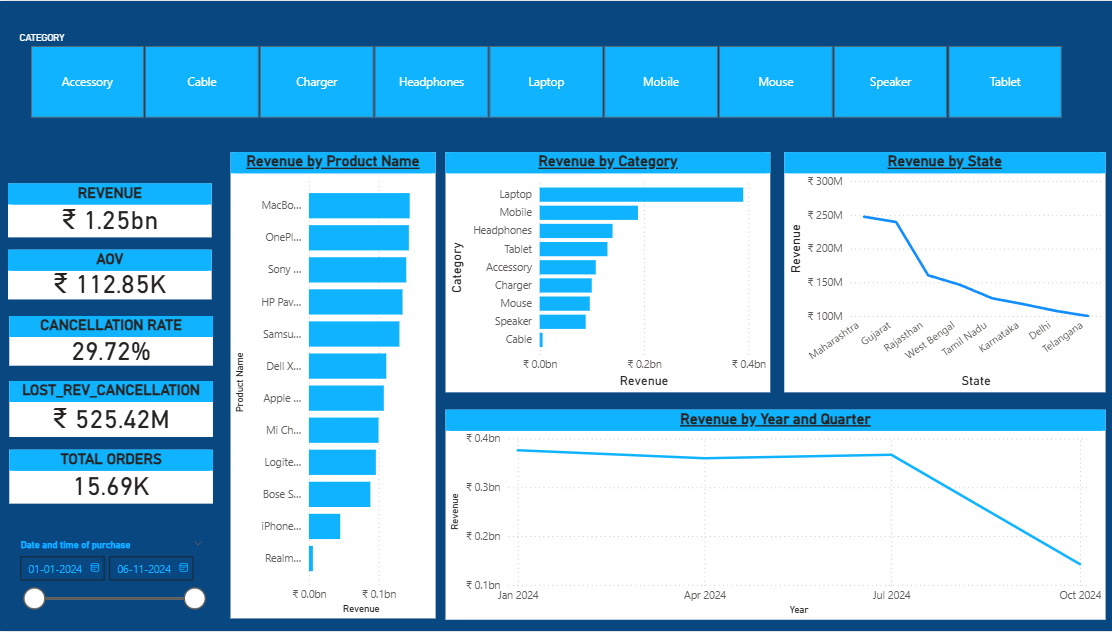

This screenshot's page, from the dashboard's own definition file:
{"tool":"powerbi","page":{"name":"Page 1","canvas":[1280,720],"ordinal":0},"visuals":[{"type":"shape","box":[0,0,1280,173.5],"z":0},{"type":"shape","box":[0,174,266,546],"z":1000},{"type":"barChart","fields":{"Y":["Table.Revenue"],"Category":["Products.Product Name"]},"box":[265.7,172.9,234.3,532.9],"z":2000},{"type":"barChart","fields":{"Y":["Table.Revenue"],"Category":["Products.Category"]},"box":[511.4,172.9,371.4,274.3],"z":3000},{"type":"lineChart","fields":{"Y":["Table.Revenue"],"Category":["Orders.Date and time of purchase.Variation.Date Hierarchy.Year","Orders.Date and time of purchase.Variation.Date Hierarchy.Quarter","Orders.Date and time of purchase.Variation.Date Hierarchy.Month","Orders.Date and time of purchase.Variation.Date Hierarchy.Day"]},"box":[511.4,467.1,754.3,240],"z":4000},{"type":"lineChart","fields":{"Y":["Table.Revenue"],"Category":["Customers.State"]},"box":[898.6,172.9,367.1,274.3],"z":5000},{"type":"slicer","fields":{"Values":["Products.Category"]},"box":[11.7,30,1228.3,110],"z":6000},{"type":"card","title":"REVENUE","fields":{"Values":["Table.Revenue"]},"box":[11.4,208.6,232.9,61.4],"z":7000},{"type":"card","title":"CANCELLATION RATE","fields":{"Values":["Table.Cancellation Rate"]},"box":[12.9,360,232.9,57.1],"z":8000},{"type":"card","title":"LOST_REV_CANCELLATION","fields":{"Values":["Table.Lost_rev_cancellation"]},"box":[12.9,434.3,232.9,64.3],"z":9000},{"type":"card","title":"AOV","fields":{"Values":["Table.AOV"]},"box":[11.4,284.3,232.9,57.1],"z":10000},{"type":"card","title":"TOTAL ORDERS","fields":{"Values":["CountNonNull(Orders.OrderID)"]},"box":[12.9,512.9,232.9,61.4],"z":11000},{"type":"slicer","fields":{"Values":["Orders.Date and time of purchase"]},"box":[12.9,610,232.9,97.1],"z":11001}]}

Visuals, with their boxes in screenshot pixels (x1, y1, x2, y2), scaled from the page's 1280x720 canvas onto the 1112x632 screenshot:
shape: {"left": 0, "top": 0, "right": 1111, "bottom": 152}
shape: {"left": 0, "top": 153, "right": 231, "bottom": 631}
barChart - Table.Revenue x Products.Product Name: {"left": 231, "top": 152, "right": 434, "bottom": 620}
barChart - Table.Revenue x Products.Category: {"left": 444, "top": 152, "right": 767, "bottom": 393}
lineChart - Table.Revenue x Orders.Date and time of purchase.Variation.Date Hierarchy.Year: {"left": 444, "top": 410, "right": 1100, "bottom": 621}
lineChart - Table.Revenue x Customers.State: {"left": 781, "top": 152, "right": 1100, "bottom": 393}
slicer - Products.Category: {"left": 10, "top": 26, "right": 1077, "bottom": 123}
"REVENUE" card: {"left": 10, "top": 183, "right": 212, "bottom": 237}
"CANCELLATION RATE" card: {"left": 11, "top": 316, "right": 214, "bottom": 366}
"LOST_REV_CANCELLATION" card: {"left": 11, "top": 381, "right": 214, "bottom": 438}
"AOV" card: {"left": 10, "top": 250, "right": 212, "bottom": 300}
"TOTAL ORDERS" card: {"left": 11, "top": 450, "right": 214, "bottom": 504}
slicer - Orders.Date and time of purchase: {"left": 11, "top": 535, "right": 214, "bottom": 621}
